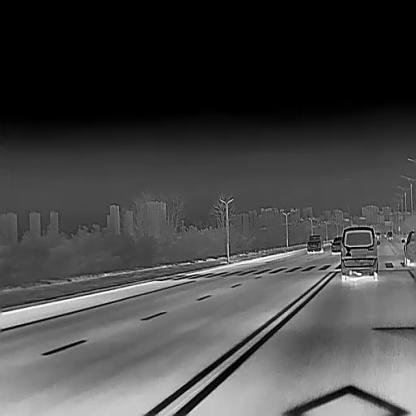car: (339, 225, 380, 280), (401, 228, 416, 266), (306, 233, 324, 254), (328, 236, 343, 254), (386, 231, 393, 241), (374, 232, 382, 240)
